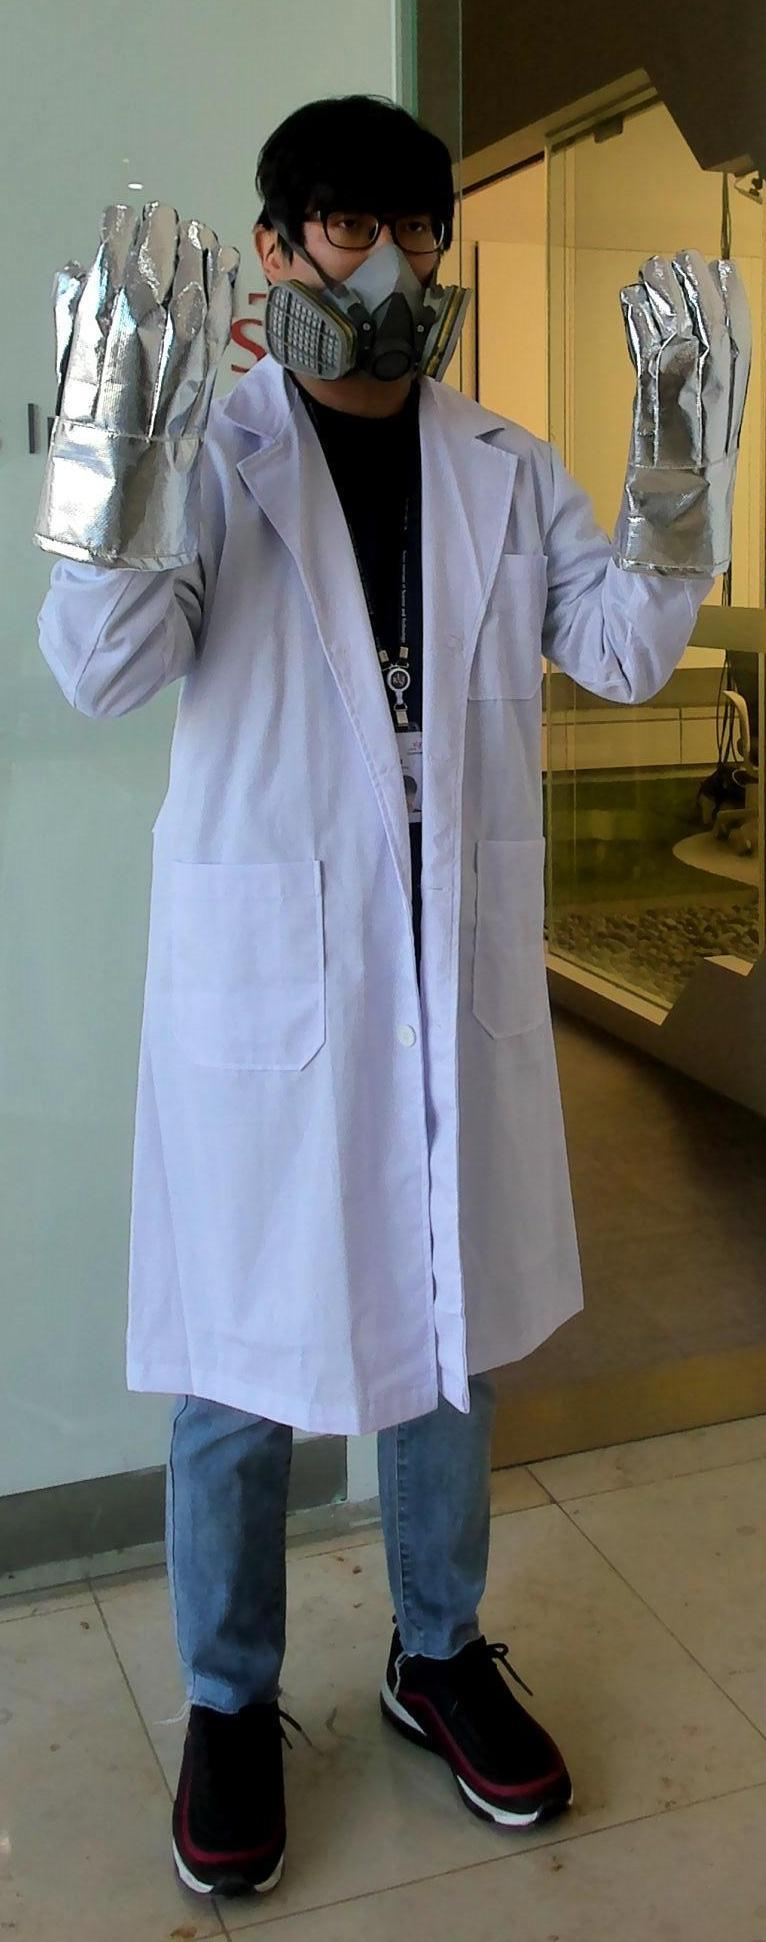lab_coat: (169, 451, 597, 1383)
